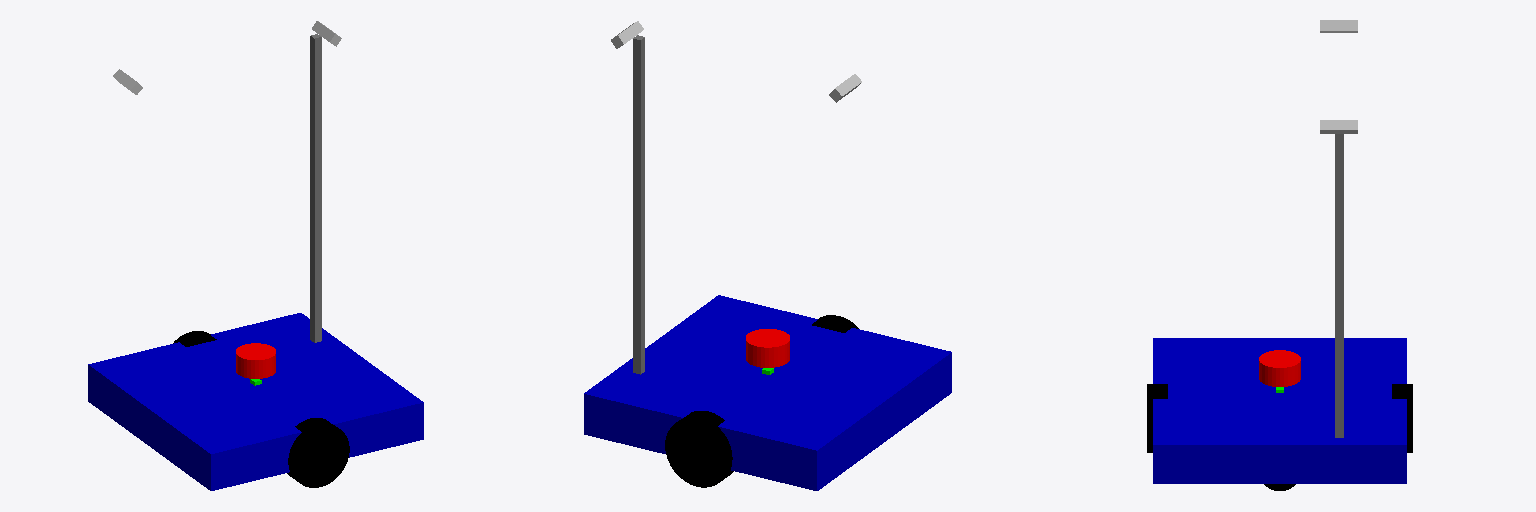
robot.urdf — my_diff_drive_robot:
<?xml version="1.0"?>
<robot name="my_diff_drive_robot">

  <!-- ========================= -->
  <!-- Materials -->
  <!-- ========================= -->
  <material name="blue">
    <color rgba="0 0 0.8 1"/>
  </material>

  <material name="green">
    <color rgba="0 1 0 1"/>
  </material>

  <material name="red">
    <color rgba="1 0 0 1"/>
  </material>

  <material name="grey">
    <color rgba="0.5 0.5 0.5 1"/>
  </material>

  <material name="silver">
    <color rgba="0.75 0.75 0.75 1"/>
  </material>

  <material name="black">
    <color rgba="0 0 0 1"/>
  </material>

  <!-- ========================= -->
  <!-- Base Footprint -->
  <!-- ========================= -->
  <link name="base_footprint"/>

  <joint name="base_joint" type="fixed">
    <parent link="base_footprint"/>
    <child link="base_link"/>
    <origin xyz="0 0 0.08255" rpy="0 0 0"/>
  </joint>

  <!-- ========================= -->
  <!-- Base Link -->
  <!-- ========================= -->
  <link name="base_link">
    <visual>
      <origin xyz="0 0 0" rpy="0 0 0"/>
      <geometry>
        <box size="0.6 0.6 0.1"/>
      </geometry>
      <material name="blue"/>
    </visual>

    <collision>
      <origin xyz="0 0 0" rpy="0 0 0"/>
      <geometry>
        <box size="0.6 0.6 0.1"/>
      </geometry>
    </collision>

    <inertial>
      <origin xyz="0 0 0" rpy="0 0 0"/>
      <mass value="8.0"/>
      <inertia ixx="0.25" ixy="0.0" ixz="0.0"
               iyy="0.25" iyz="0.0"
               izz="0.35"/>
    </inertial>
  </link>

  <!-- ========================= -->
  <!-- IMU -->
  <!-- ========================= -->
  <link name="imu_link">
    <visual>
      <geometry>
        <box size="0.02 0.02 0.01"/>
      </geometry>
      <material name="green"/>
    </visual>

    <collision>
      <geometry>
        <box size="0.02 0.02 0.01"/>
      </geometry>
    </collision>

    <inertial>
      <origin xyz="0 0 0" rpy="0 0 0"/>
      <mass value="0.02"/>
      <inertia ixx="1e-5" ixy="0.0" ixz="0.0"
               iyy="1e-5" iyz="0.0"
               izz="1e-5"/>
    </inertial>
  </link>

  <joint name="imu_joint" type="fixed">
    <parent link="base_link"/>
    <child link="imu_link"/>
    <origin xyz="0 0 0.055" rpy="0 0 0"/>
  </joint>

  <!-- ========================= -->
  <!-- 2D LiDAR Link -->
  <!-- ========================= -->
  <link name="laser_link">
    <visual>
      <origin xyz="0 0 -0.04" rpy="0 0 0"/>
      <geometry>
        <cylinder radius="0.05" length="0.05"/>
      </geometry>
      <material name="red"/>
    </visual>

    <inertial>
      <origin xyz="0 0 0" rpy="0 0 0"/>
      <mass value="0.10"/>
      <inertia ixx="1e-4" ixy="0.0" ixz="0.0"
               iyy="1e-4" iyz="0.0"
               izz="1e-4"/>
    </inertial>
  </link>

  <joint name="laser_joint" type="fixed">
    <parent link="base_link"/>
    <child link="laser_link"/>
    <origin xyz="0 0 0.15" rpy="0 0 0"/>
  </joint>

  <!-- ========================= -->
  <!-- Support Link -->
  <!-- ========================= -->
  <link name="support_link">
    <visual>
      <geometry>
        <box size="0.02 0.02 0.87"/>
      </geometry>
      <material name="grey"/>
    </visual>

    <collision>
      <geometry>
        <box size="0.02 0.02 0.87"/>
      </geometry>
    </collision>

    <inertial>
      <origin xyz="0 0 0" rpy="0 0 0"/>
      <mass value="0.15"/>
      <inertia ixx="2e-4" ixy="0.0" ixz="0.0"
               iyy="2e-4" iyz="0.0"
               izz="1e-5"/>
    </inertial>
  </link>

  <joint name="support_joint" type="fixed">
    <parent link="base_link"/>
    <child link="support_link"/>
    <origin xyz="0.25 0.14 0.435" rpy="0 0 0"/>
  </joint>

  <!-- ========================= -->
  <!-- Camera Link -->
  <!-- ========================= -->
  <link name="camera_link">
    <visual>
      <geometry>
        <box size="0.025 0.09 0.025"/>
      </geometry>
      <material name="silver"/>
    </visual>

    <collision>
      <geometry>
        <box size="0.025 0.09 0.025"/>
      </geometry>
    </collision>

    <inertial>
      <origin xyz="0 0 0" rpy="0 0 0"/>
      <mass value="0.10"/>
      <inertia ixx="5e-5" ixy="0.0" ixz="0.0"
               iyy="5e-5" iyz="0.0"
               izz="5e-5"/>
    </inertial>
  </link>

  <joint name="camera_joint" type="fixed">
    <parent link="base_link"/>
    <child link="camera_link"/>
    <origin xyz="0.28 0.14 0.87" rpy="0 0.698132 0"/>
  </joint>

  <!-- Optical frame -->
  <link name="camera_color_optical_frame">
    <inertial>
      <origin xyz="0 0 0" rpy="0 0 0"/>
      <mass value="0.0001"/>
      <inertia ixx="1e-9" ixy="0.0" ixz="0.0"
               iyy="1e-9" iyz="0.0"
               izz="1e-9"/>
    </inertial>
  </link>

  <joint name="camera_optical_joint" type="fixed">
    <parent link="camera_link"/>
    <child link="camera_color_optical_frame"/>
    <origin xyz="0 0 0" rpy="-1.5708 0 -1.5708"/>
  </joint>

  <!-- Depth Optical frame -->
  <link name="camera_depth_optical_frame">
    <inertial>
      <origin xyz="0 0 0" rpy="0 0 0"/>
      <mass value="0.0001"/>
      <inertia ixx="1e-9" ixy="0.0" ixz="0.0"
               iyy="1e-9" iyz="0.0"
               izz="1e-9"/>
    </inertial>
  </link>

  <joint name="camera_depth_optical_joint" type="fixed">
    <parent link="camera_link"/>
    <child link="camera_depth_optical_frame"/>
    <origin xyz="0 0 0" rpy="-1.5708 0 -1.5708"/>
  </joint>

  <!-- ========================= -->
  <!-- Rear Camera Link -->
  <!-- ========================= -->
  <link name="rear_camera_link">
    <visual>
      <geometry>
        <box size="0.025 0.09 0.025"/>
      </geometry>
      <material name="silver"/>
    </visual>
    <collision>
      <geometry>
        <box size="0.025 0.09 0.025"/>
      </geometry>
    </collision>
    <inertial>
      <origin xyz="0 0 0" rpy="0 0 0"/>
      <mass value="0.10"/>
      <inertia ixx="5e-5" ixy="0.0" ixz="0.0"
               iyy="5e-5" iyz="0.0"
               izz="5e-5"/>
    </inertial>
  </link>

  <joint name="rear_camera_joint" type="fixed">
    <parent link="base_link"/>
    <child link="rear_camera_link"/>
    <!-- Positioned at the back (-0.28 on X) and facing backward (yaw = 3.14159) -->
    <origin xyz="-0.28 0.14 0.87" rpy="0 0.698132 3.14159265"/>
  </joint>

  <!-- Rear Depth Optical frame -->
  <link name="rear_camera_depth_optical_frame">
    <inertial>
      <origin xyz="0 0 0" rpy="0 0 0"/>
      <mass value="0.0001"/>
      <inertia ixx="1e-9" ixy="0.0" ixz="0.0"
               iyy="1e-9" iyz="0.0"
               izz="1e-9"/>
    </inertial>
  </link>

  <joint name="rear_camera_depth_optical_joint" type="fixed">
    <parent link="rear_camera_link"/>
    <child link="rear_camera_depth_optical_frame"/>
    <origin xyz="0 0 0" rpy="-1.5708 0 -1.5708"/>
  </joint>

  <!-- Rear Scan Frame (Horizontal projection for rear camera) -->
  <link name="rear_scan_frame"/>

  <joint name="rear_scan_joint" type="fixed">
    <parent link="base_link"/>
    <child link="rear_scan_frame"/>
    <origin xyz="-0.28 0.14 0.0" rpy="0 0 3.14159265"/>
  </joint>


  <!-- ========================= -->
  <!-- Drive Wheels (Diff Drive) -->
  <!-- ========================= -->
  <link name="wheel_left_link">
    <visual>
      <origin xyz="0 0 0" rpy="0 0 0"/>
      <geometry>
        <cylinder radius="0.08255" length="0.05"/>
      </geometry>
      <material name="black"/>
    </visual>
    <collision>
      <origin xyz="0 0 0" rpy="0 0 0"/>
      <geometry>
        <cylinder radius="0.08255" length="0.05"/>
      </geometry>
    </collision>
    <inertial>
      <origin xyz="0 0 0" rpy="0 0 0"/>
      <mass value="0.50"/>
      <inertia ixx="0.001" ixy="0.0" ixz="0.0"
               iyy="0.001" iyz="0.0"
               izz="0.0005"/>
    </inertial>
  </link>

  <joint name="wheel_left_joint" type="continuous">
    <parent link="base_link"/>
    <child link="wheel_left_link"/>
    <origin xyz="0 0.29 -0.02" rpy="-1.5708 0 0"/>
    <axis xyz="0 0 1"/>
  </joint>

  <link name="wheel_right_link">
    <visual>
      <origin xyz="0 0 0" rpy="0 0 0"/>
      <geometry>
        <cylinder radius="0.08255" length="0.05"/>
      </geometry>
      <material name="black"/>
    </visual>
    <collision>
      <origin xyz="0 0 0" rpy="0 0 0"/>
      <geometry>
        <cylinder radius="0.08255" length="0.05"/>
      </geometry>
    </collision>
    <inertial>
      <origin xyz="0 0 0" rpy="0 0 0"/>
      <mass value="0.50"/>
      <inertia ixx="0.001" ixy="0.0" ixz="0.0"
               iyy="0.001" iyz="0.0"
               izz="0.0005"/>
    </inertial>
  </link>

  <joint name="wheel_right_joint" type="continuous">
    <parent link="base_link"/>
    <child link="wheel_right_link"/>
    <origin xyz="0 -0.29 -0.02" rpy="-1.5708 0 0"/>
    <axis xyz="0 0 1"/>
  </joint>

  <!-- ========================= -->
  <!-- Caster Wheels (Bánh phụ) -->
  <!-- ========================= -->
  <link name="caster_front_link">
    <visual>
      <origin xyz="0 0 0" rpy="0 0 0"/>
      <geometry>
        <sphere radius="0.05"/>
      </geometry>
      <material name="black"/>
    </visual>
    <collision>
      <origin xyz="0 0 0" rpy="0 0 0"/>
      <geometry>
        <sphere radius="0.05"/>
      </geometry>
    </collision>
    <inertial>
      <origin xyz="0 0 0" rpy="0 0 0"/>
      <mass value="0.1"/>
      <inertia ixx="1e-4" ixy="0.0" ixz="0.0"
               iyy="1e-4" iyz="0.0"
               izz="1e-4"/>
    </inertial>
  </link>

  <joint name="caster_front_joint" type="fixed">
    <parent link="base_link"/>
    <child link="caster_front_link"/>
    <origin xyz="0.22 0 -0.05255" rpy="0 0 0"/>
  </joint>

  <link name="caster_rear_link">
    <visual>
      <origin xyz="0 0 0" rpy="0 0 0"/>
      <geometry>
        <sphere radius="0.05"/>
      </geometry>
      <material name="black"/>
    </visual>
    <collision>
      <origin xyz="0 0 0" rpy="0 0 0"/>
      <geometry>
        <sphere radius="0.05"/>
      </geometry>
    </collision>
    <inertial>
      <origin xyz="0 0 0" rpy="0 0 0"/>
      <mass value="0.1"/>
      <inertia ixx="1e-4" ixy="0.0" ixz="0.0"
               iyy="1e-4" iyz="0.0"
               izz="1e-4"/>
    </inertial>
  </link>

  <joint name="caster_rear_joint" type="fixed">
    <parent link="base_link"/>
    <child link="caster_rear_link"/>
    <origin xyz="-0.22 0 -0.05255" rpy="0 0 0"/>
  </joint>

  <!-- Friction settings for caster wheels -->
  <gazebo reference="caster_front_link">
    <mu1>0.001</mu1>
    <mu2>0.001</mu2>
  </gazebo>

  <gazebo reference="caster_rear_link">
    <mu1>0.001</mu1>
    <mu2>0.001</mu2>
  </gazebo>

  <!-- ========================= -->
  <!-- Gazebo Sim (gz-sim) Plugins -->
  <!-- ========================= -->
  <gazebo>
    <plugin filename="gz-sim-diff-drive-system" name="gz::sim::systems::DiffDrive">
      <left_joint>wheel_left_joint</left_joint>
      <right_joint>wheel_right_joint</right_joint>
      <wheel_separation>0.58</wheel_separation>
      <wheel_radius>0.08255</wheel_radius>
      <max_linear_acceleration>1.0</max_linear_acceleration>
      <min_linear_acceleration>-1.0</min_linear_acceleration>
      <max_angular_acceleration>2.0</max_angular_acceleration>
      <min_angular_acceleration>-2.0</min_angular_acceleration>
      <max_linear_velocity>1.0</max_linear_velocity>
      <min_linear_velocity>-1.0</min_linear_velocity>
      <max_angular_velocity>2.0</max_angular_velocity>
      <min_angular_velocity>-2.0</min_angular_velocity>
      <topic>cmd_vel</topic>
      <odom_topic>odom</odom_topic>
      <tf_topic>tf</tf_topic>
      <frame_id>odom</frame_id>
      <child_frame_id>base_footprint</child_frame_id>
      <odom_publisher_frequency>50</odom_publisher_frequency>
    </plugin>

    <plugin filename="gz-sim-joint-state-publisher-system" name="gz::sim::systems::JointStatePublisher">
      <topic>joint_states</topic>
      <joint_name>wheel_left_joint</joint_name>
      <joint_name>wheel_right_joint</joint_name>
    </plugin>
  </gazebo>

  <!-- IMU Sensor -->
  <gazebo reference="imu_link">
    <sensor name="imu_sensor" type="imu">
      <always_on>true</always_on>
      <update_rate>100.0</update_rate>
      <visualize>false</visualize>
      <topic>imu/data</topic>
      <gz_frame_id>imu_link</gz_frame_id>
      <imu>
        <angular_velocity>
          <x><noise type="gaussian"><mean>0.0</mean><stddev>0.0002</stddev></noise></x>
          <y><noise type="gaussian"><mean>0.0</mean><stddev>0.0002</stddev></noise></y>
          <z><noise type="gaussian"><mean>0.0</mean><stddev>0.0002</stddev></noise></z>
        </angular_velocity>
        <linear_acceleration>
          <x><noise type="gaussian"><mean>0.0</mean><stddev>0.017</stddev></noise></x>
          <y><noise type="gaussian"><mean>0.0</mean><stddev>0.017</stddev></noise></y>
          <z><noise type="gaussian"><mean>0.0</mean><stddev>0.017</stddev></noise></z>
        </linear_acceleration>
      </imu>
    </sensor>
  </gazebo>

  <!-- 2D LiDAR Sensor -->
  <gazebo reference="laser_link">
    <sensor name="lidar_sensor" type="gpu_lidar">
      <always_on>true</always_on>
      <visualize>true</visualize>
      <update_rate>12.0</update_rate>
      <topic>scan</topic>
      <gz_frame_id>laser_link</gz_frame_id>
      <lidar>
        <scan>
          <horizontal>
            <samples>720</samples>
            <resolution>1</resolution>
            <min_angle>-3.14159265</min_angle>
            <max_angle>3.14159265</max_angle>
          </horizontal>
        </scan>
        <range>
          <min>0.12</min>
          <max>12.0</max>
          <resolution>0.01</resolution>
        </range>
        <noise>
          <type>gaussian</type>
          <mean>0.0</mean>
          <stddev>0.01</stddev>
        </noise>
      </lidar>
    </sensor>
  </gazebo>

  <!-- Front Camera Sensors (RGB & Depth) -->
  <gazebo reference="camera_link">


    <sensor name="front_depth_camera" type="depth_camera">
      <always_on>true</always_on>
      <visualize>false</visualize>
      <update_rate>15.0</update_rate>
      <topic>front_camera/depth/image_raw</topic>
      <gz_frame_id>camera_link</gz_frame_id>
      <camera name="front_depth_camera">
        <horizontal_fov>1.3962634</horizontal_fov>
        <image>
          <width>640</width>
          <height>480</height>
          <format>R8G8B8</format>
        </image>
        <clip>
          <near>0.1</near>
          <far>10.0</far>
        </clip>
      </camera>
    </sensor>
  </gazebo>

  <!-- Rear Camera Sensors (Depth Only) -->
  <gazebo reference="rear_camera_link">
    <sensor name="rear_depth_camera" type="depth_camera">
      <always_on>true</always_on>
      <visualize>false</visualize>
      <update_rate>15.0</update_rate>
      <topic>rear_camera/depth/image_raw</topic>
      <gz_frame_id>rear_camera_link</gz_frame_id>
      <camera name="rear_depth_camera">
        <horizontal_fov>1.3962634</horizontal_fov>
        <image>
          <width>640</width>
          <height>480</height>
          <format>R8G8B8</format>
        </image>
        <clip>
          <near>0.1</near>
          <far>10.0</far>
        </clip>
      </camera>
    </sensor>
  </gazebo>

  <!-- ========================= -->
  <!-- ros2_control Hardware Tag -->
  <!-- ========================= -->
  <ros2_control name="hoverboard_system" type="system">
    <hardware>
      <plugin>hoverboard_driver/hoverboard_driver</plugin>
      <param name="wheel_radius">0.08255</param>
      <param name="max_velocity">1.0</param>
      <param name="device">/dev/hoverboard</param>
    </hardware>
    <joint name="wheel_left_joint">
      <command_interface name="velocity"/>
      <state_interface name="position"/>
      <state_interface name="velocity"/>
    </joint>
    <joint name="wheel_right_joint">
      <command_interface name="velocity"/>
      <state_interface name="position"/>
      <state_interface name="velocity"/>
    </joint>
  </ros2_control>

</robot>

--- Facts derived from the render (not from the file) ---
Views: 3 orthographic renders of the robot side by side, from view 1: azimuth 30°, elevation 25°; view 2: azimuth 150°, elevation 25°; view 3: azimuth 270°, elevation 25°.
Model my_diff_drive_robot with 15 links and 14 joints (2 continuous, 12 fixed), rooted at base_footprint, posed every joint at zero.
Visible links, largest first — view 1: base_link, support_link, wheel_right_link, laser_link; view 2: base_link, support_link, wheel_left_link, laser_link; view 3: base_link, support_link, laser_link, wheel_left_link, wheel_right_link, camera_link.
Link boxes in pixels (bbox=[...]): base_link: bbox=[88, 313, 423, 490]; support_link: bbox=[310, 34, 321, 342]; wheel_right_link: bbox=[287, 418, 349, 487]; laser_link: bbox=[236, 343, 275, 378]; base_link: bbox=[584, 295, 951, 490]; support_link: bbox=[633, 35, 644, 374]; wheel_left_link: bbox=[665, 411, 733, 487]; laser_link: bbox=[746, 329, 789, 367]; base_link: bbox=[1153, 338, 1406, 483]; support_link: bbox=[1335, 134, 1343, 437]; laser_link: bbox=[1259, 350, 1300, 386]; wheel_left_link: bbox=[1392, 384, 1412, 452]; wheel_right_link: bbox=[1147, 384, 1167, 452]; camera_link: bbox=[1320, 120, 1357, 133].
Size in the robot's own frame: 0.6 by 0.63 by 0.9902 metres.
Geometry: primitives only (box / cylinder / sphere), no mesh files.
